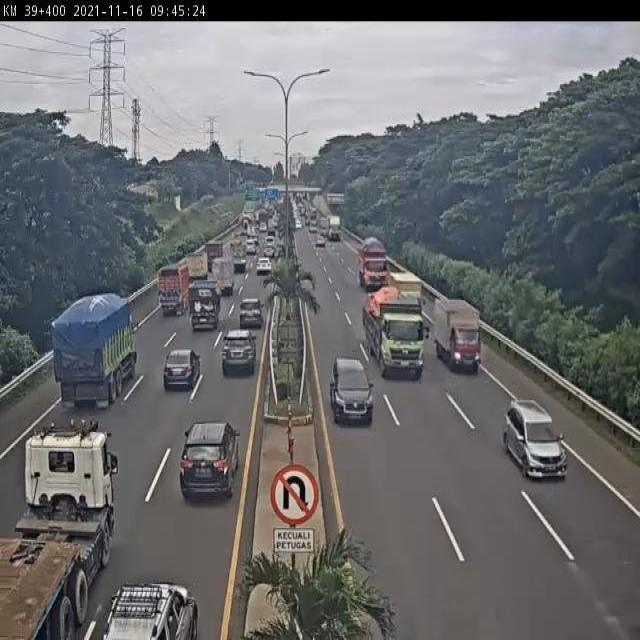Car: (98, 579, 199, 638), (505, 398, 568, 478), (180, 421, 240, 500), (328, 358, 374, 426), (219, 328, 256, 376), (163, 348, 200, 392), (238, 297, 264, 329), (256, 257, 272, 276), (245, 237, 257, 255), (264, 246, 275, 259), (316, 234, 326, 247), (295, 220, 302, 230)
Truck: (0, 417, 120, 640), (49, 291, 140, 408), (362, 285, 430, 380), (434, 298, 482, 375), (157, 263, 194, 317), (186, 278, 222, 333), (387, 269, 427, 312), (358, 237, 388, 293), (211, 256, 236, 296), (186, 251, 208, 282), (204, 240, 224, 270), (230, 243, 247, 273), (326, 215, 342, 242)
